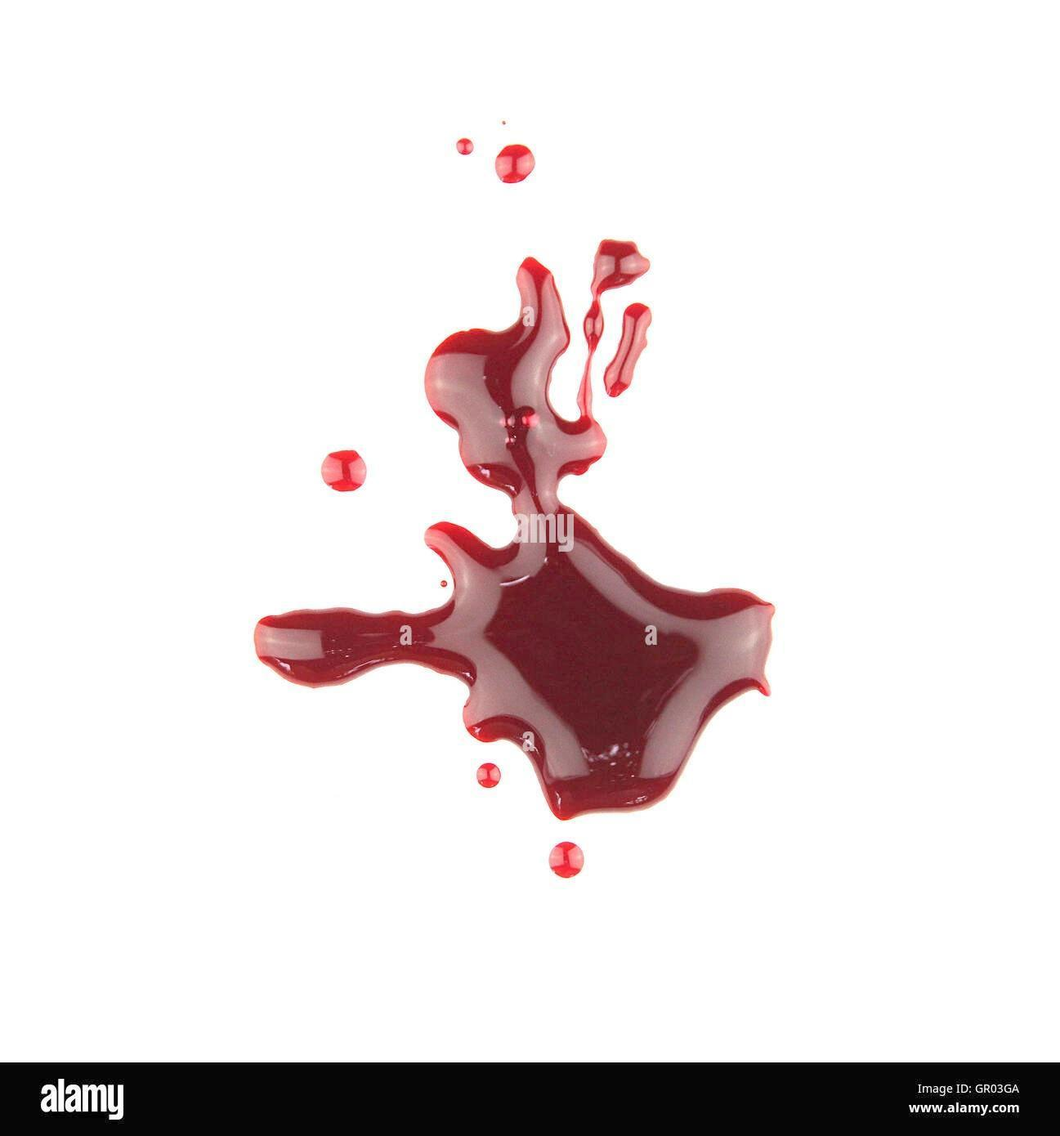Bloodstain-Detection: (466, 325, 699, 833)
